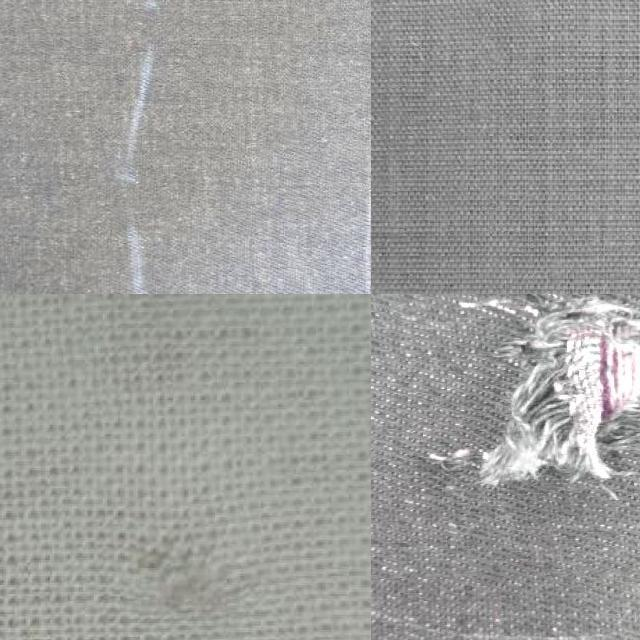other: (136, 532, 238, 618)
stains: (371, 294, 640, 576), (283, 0, 371, 294)
